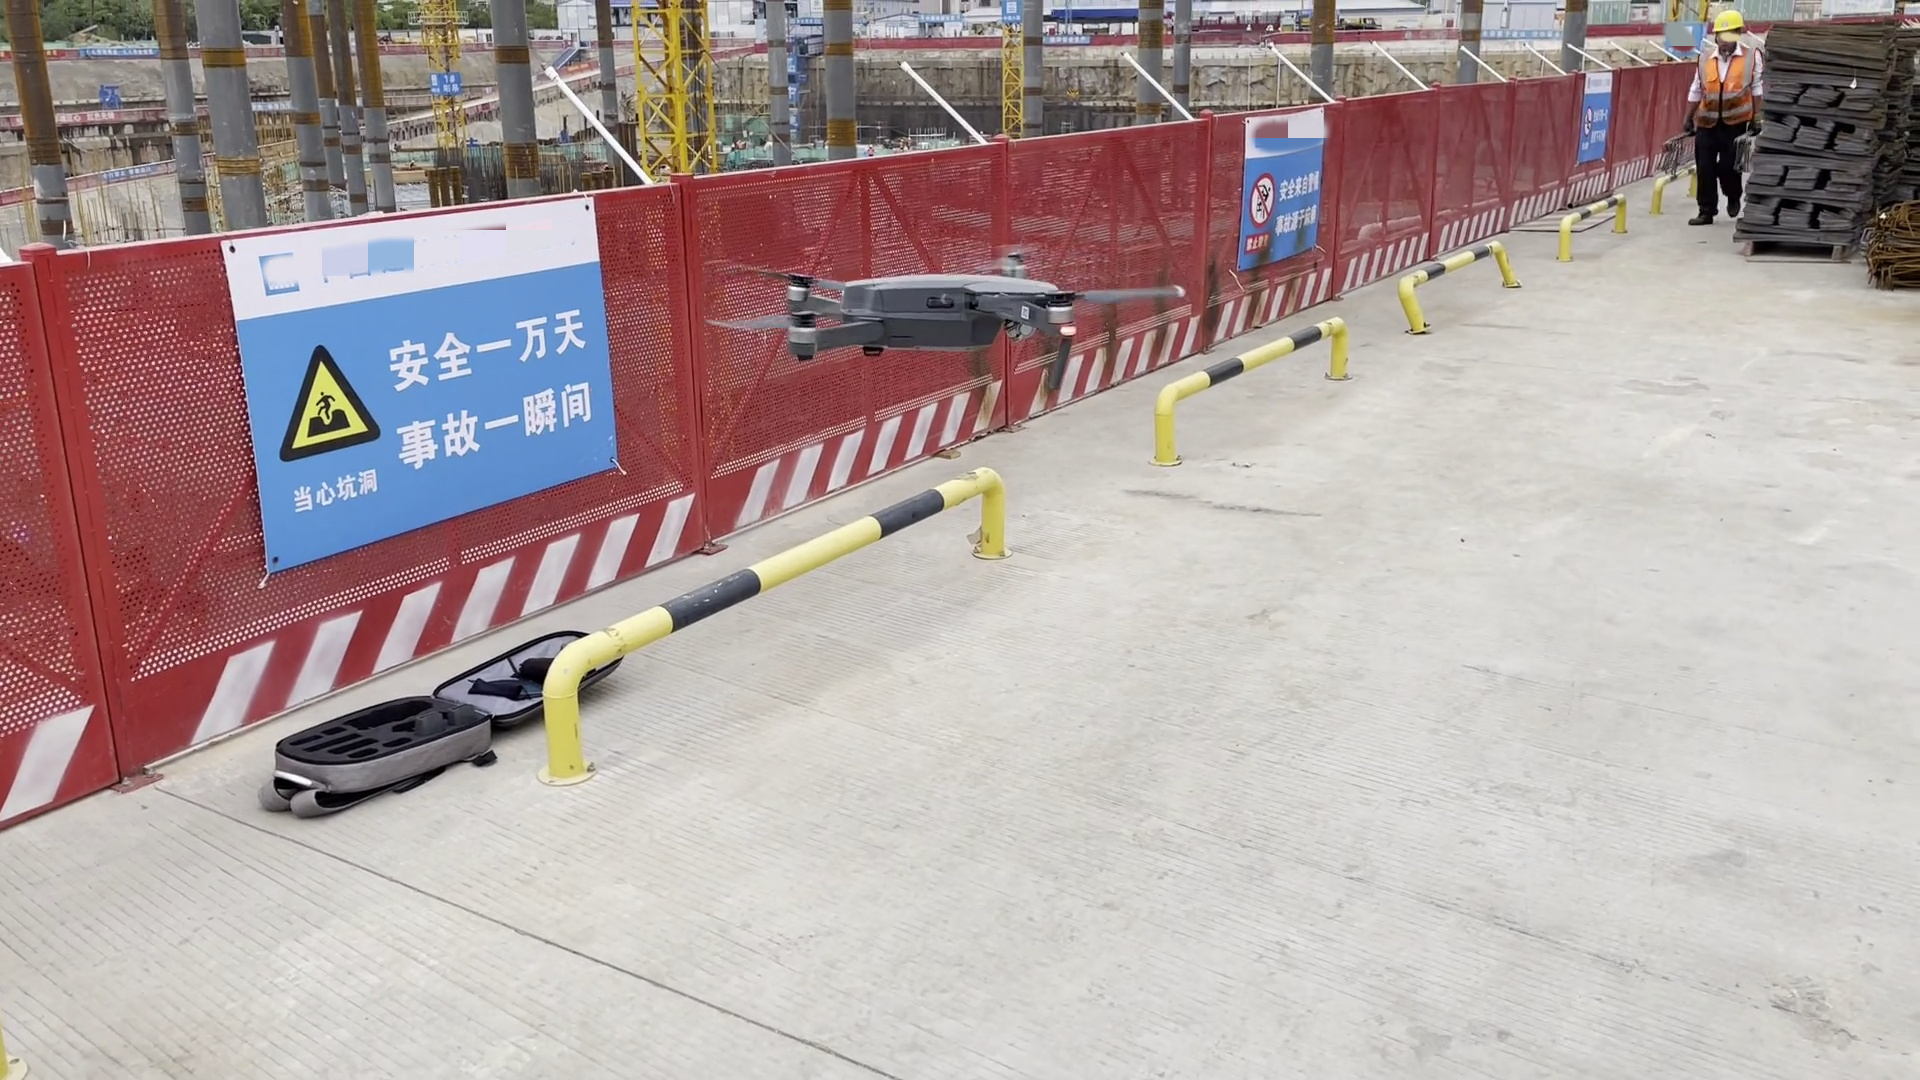fence: (14, 164, 1293, 747), (1222, 31, 1465, 49)
helmet: (1709, 13, 1751, 34)
person: (1691, 3, 1765, 237)
slogan: (293, 271, 591, 473), (1242, 171, 1349, 267), (11, 112, 121, 124), (1480, 27, 1558, 40), (84, 48, 159, 61), (102, 166, 155, 181), (442, 71, 463, 94)
vest: (1700, 44, 1752, 136)
